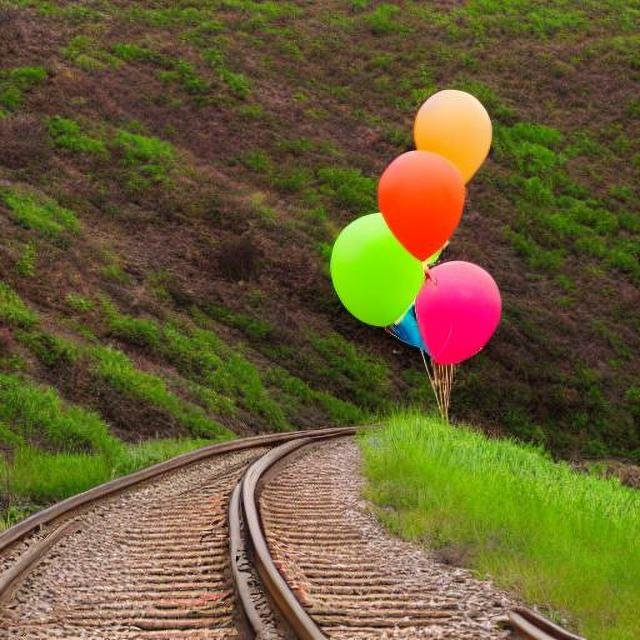balloon: (372, 74, 503, 258), (396, 254, 517, 369), (323, 206, 424, 333)
